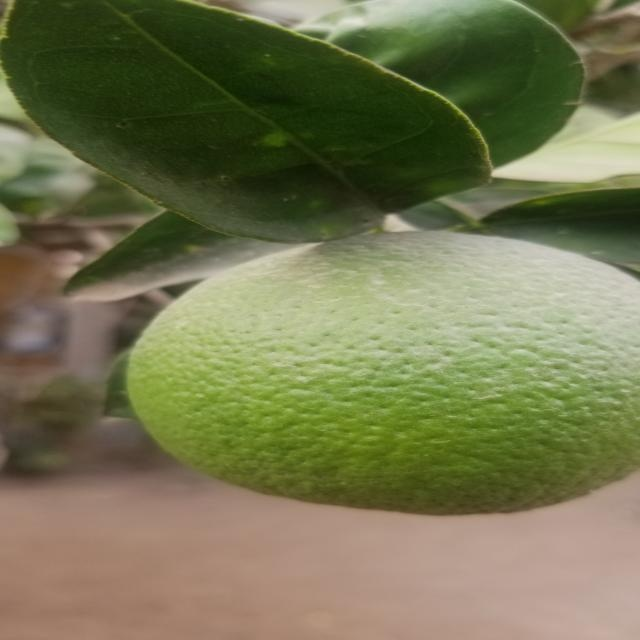agrume: (127, 235, 640, 517)
